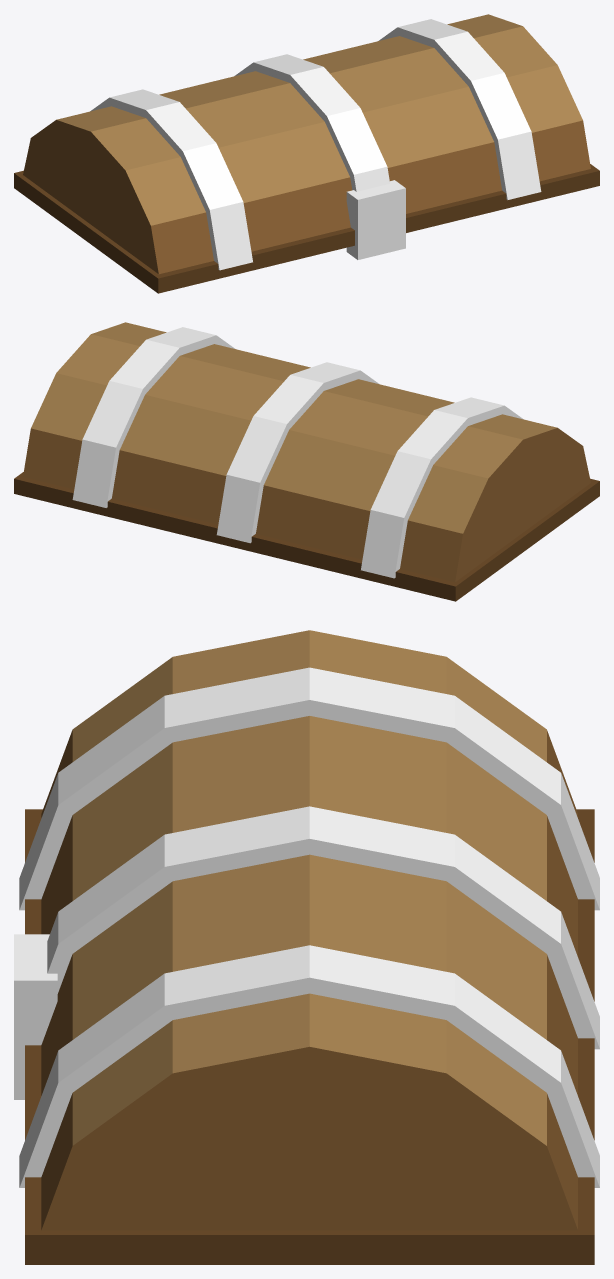
The model's file is chest_lid.glb.
3 renders of one model, top to bottom at view 1: azimuth 30°, elevation 25°; view 2: azimuth 150°, elevation 25°; view 3: azimuth 270°, elevation 25°, orthographic. The views are drawn at different scales.
Parts seen in each view (by area): view 1: ChestLid; view 2: ChestLid; view 3: ChestLid.
Part boxes in pixels (x1=…): ChestLid: x1=14, y1=14, x2=599, y2=293; ChestLid: x1=14, y1=322, x2=599, y2=601; ChestLid: x1=14, y1=630, x2=599, y2=1264.
Bounding box in the file's own units: 0.92 × 0.256 × 0.535.
